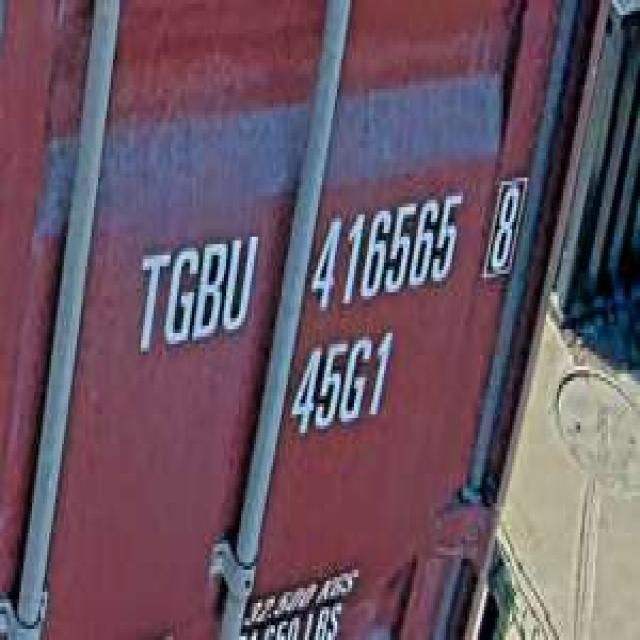dv: (482, 162, 527, 288)
owner: (132, 222, 258, 359)
serial: (307, 181, 465, 318)
size: (286, 329, 399, 444)
